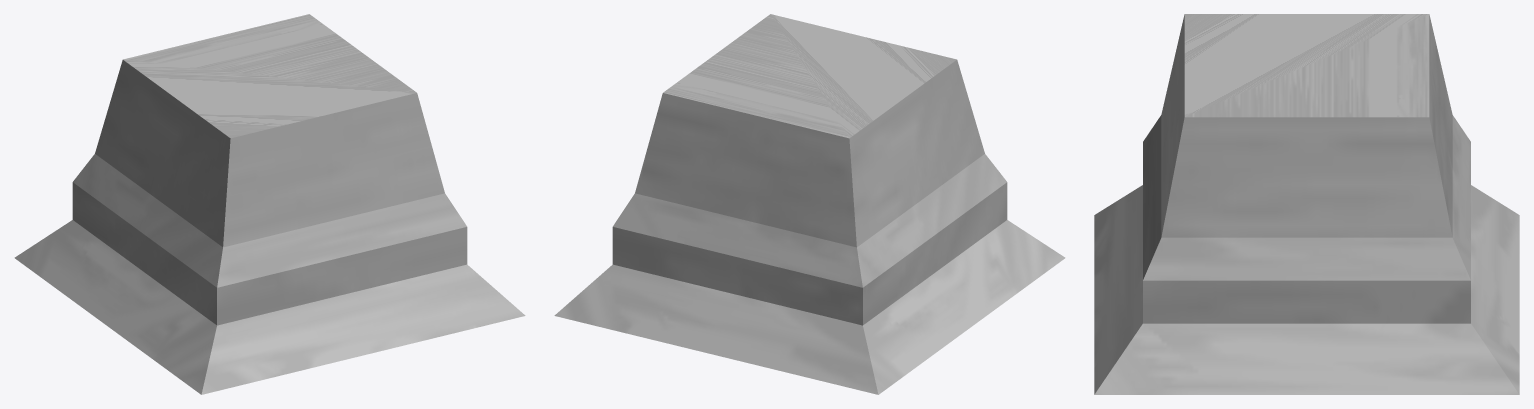
The model's file is KIRKIKPARCALAR4.fbx.
3 views of the same model, side by side, from view 1: azimuth 30°, elevation 25°; view 2: azimuth 150°, elevation 25°; view 3: azimuth 270°, elevation 25° (orthographic). The views are drawn at different scales.
Visible parts, largest first — view 1: saglam_sutun.002; view 2: saglam_sutun.002; view 3: saglam_sutun.002.
Part boxes in pixels (x1,y1,x2,y2): saglam_sutun.002: [14, 14, 525, 394]; saglam_sutun.002: [554, 14, 1065, 394]; saglam_sutun.002: [1094, 14, 1519, 394].
Bounding box in the file's own units: 3.21 × 1.99 × 3.21.
Materials: 1 (1 with a texture image).
